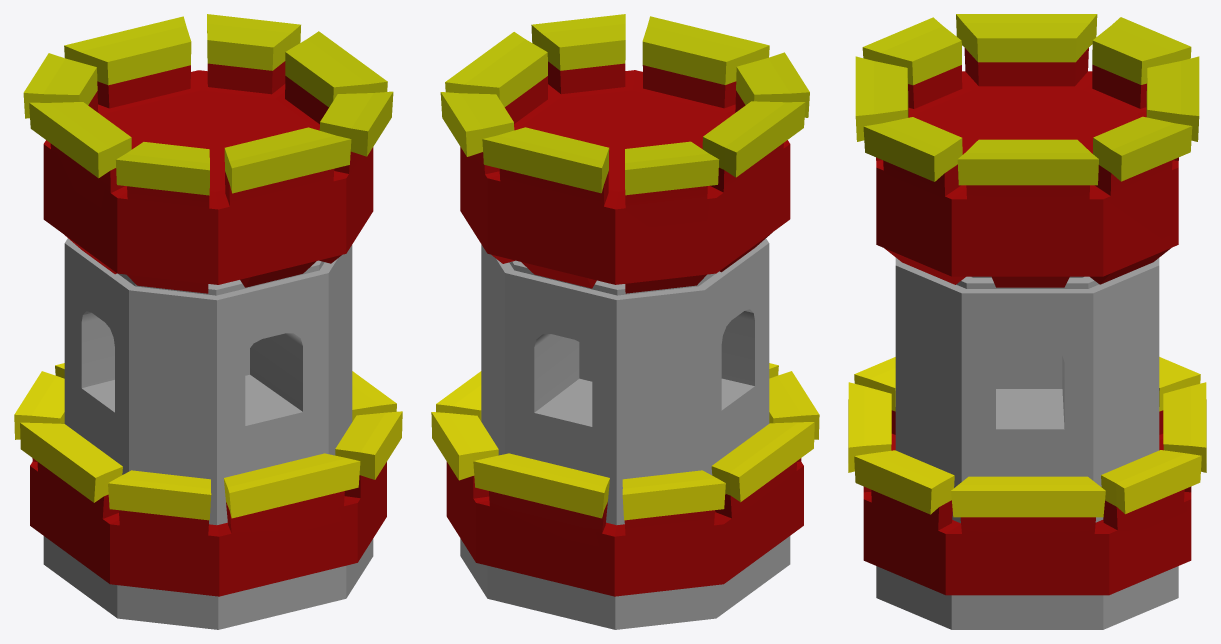
Rendered from Tower2.fbx.
3 renders of one model, left to right at view 1: azimuth 30°, elevation 25°; view 2: azimuth 150°, elevation 25°; view 3: azimuth 270°, elevation 25°, orthographic. The views are drawn at different scales.
Visible parts, largest first — view 1: Tower2_Prefab; view 2: Tower2_Prefab; view 3: Tower2_Prefab.
Part boxes in pixels (left/top/right/bottom): Tower2_Prefab: left=14, top=14, right=402, bottom=629; Tower2_Prefab: left=431, top=14, right=819, bottom=629; Tower2_Prefab: left=848, top=14, right=1206, bottom=629.
Size of the model in its own units: 0.0237 by 0.035 by 0.0237.
